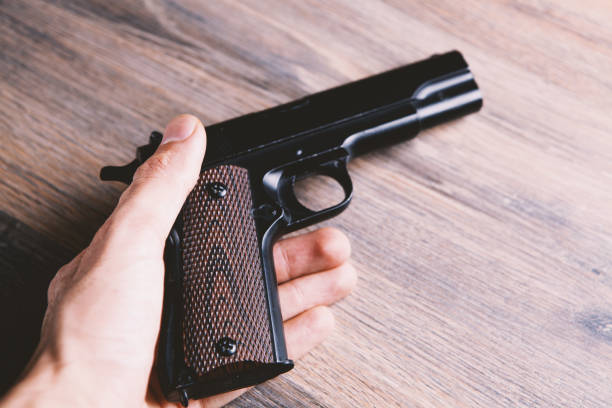gun: (100, 48, 486, 408)
